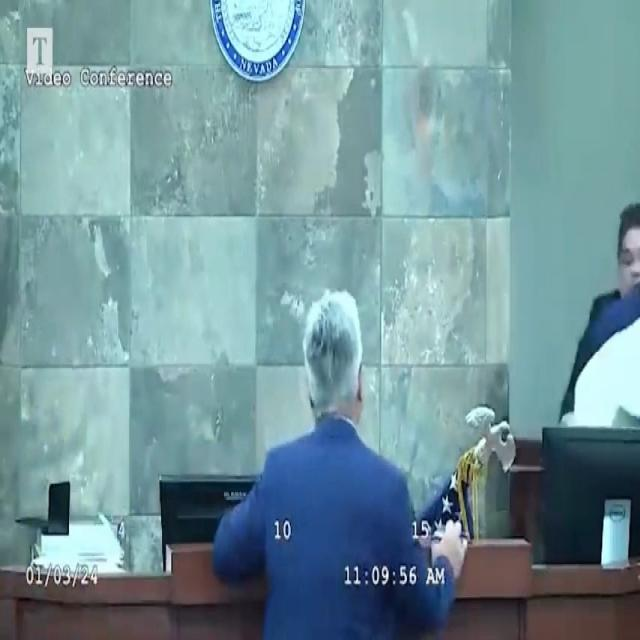fight: (539, 200, 640, 427)
non-fight: (192, 274, 477, 640)
